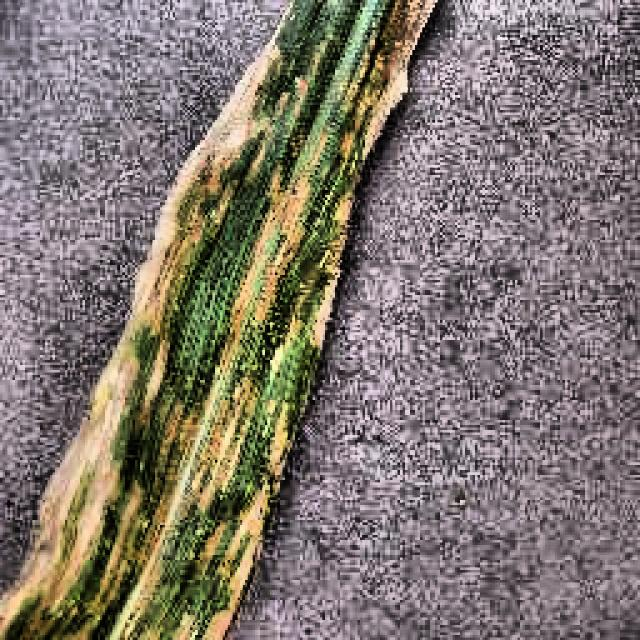blight: (0, 0, 444, 638)
